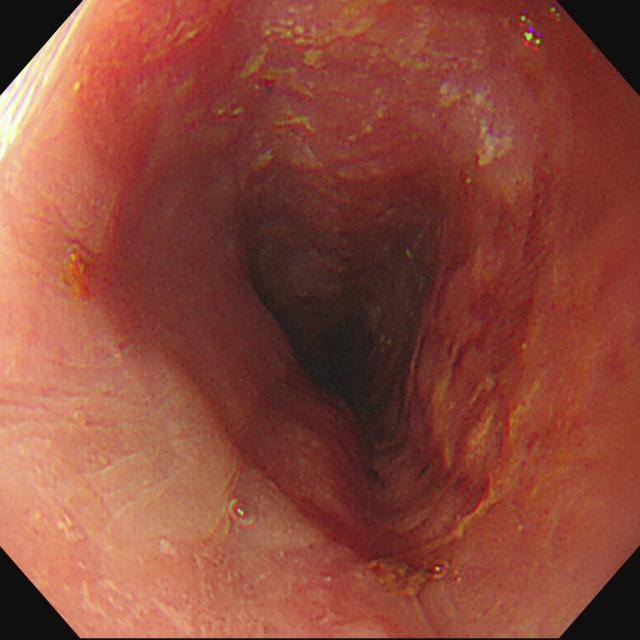A: (388, 193, 553, 532), (331, 542, 424, 606), (63, 239, 107, 306)
E: (314, 326, 366, 390)
J: (239, 2, 391, 101), (438, 83, 518, 170)
T: (230, 500, 260, 531)
U: (2, 2, 93, 160), (521, 12, 543, 54)
